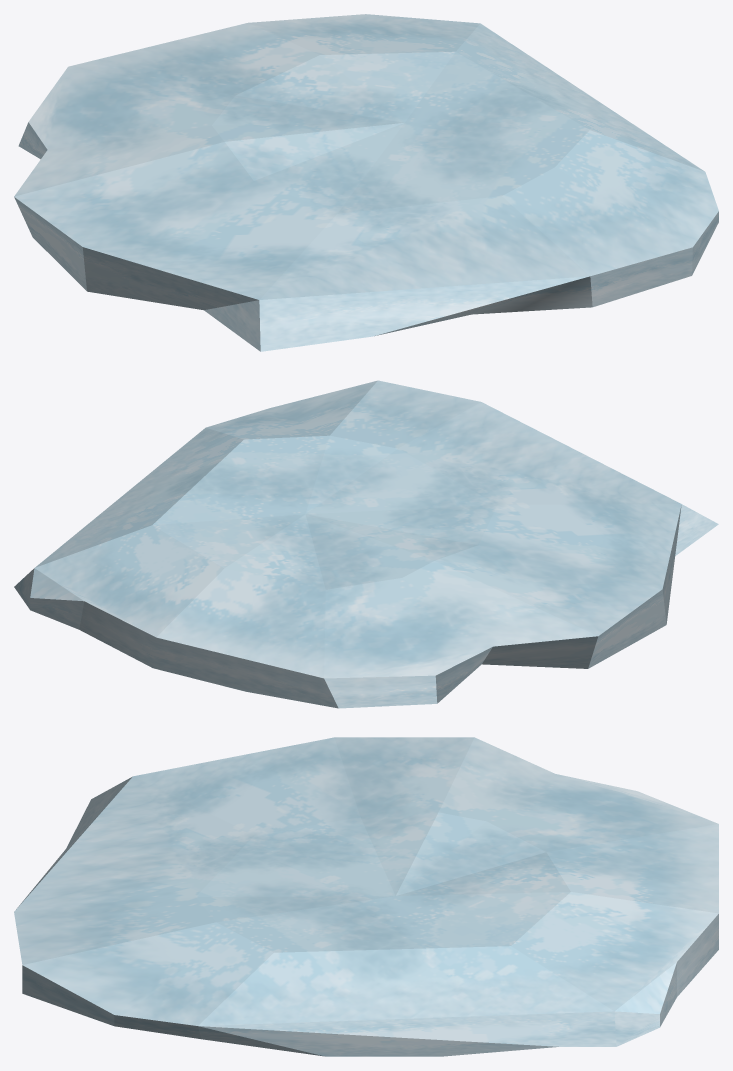
The model's file is MeltedIce.fbx.
3 views of the same model, one above another, from view 1: azimuth 30°, elevation 25°; view 2: azimuth 150°, elevation 25°; view 3: azimuth 270°, elevation 25° (orthographic). The views are drawn at different scales.
Visible parts, largest first — view 1: Cube; view 2: Cube; view 3: Cube.
Part boxes in pixels (x1,y1,x2,y2): Cube: (14,14,718,351); Cube: (14,380,718,708); Cube: (14,737,718,1056).
Bounding box in the file's own units: 224 × 30.92 × 241.
